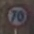limite 70: (6, 5, 28, 28)
